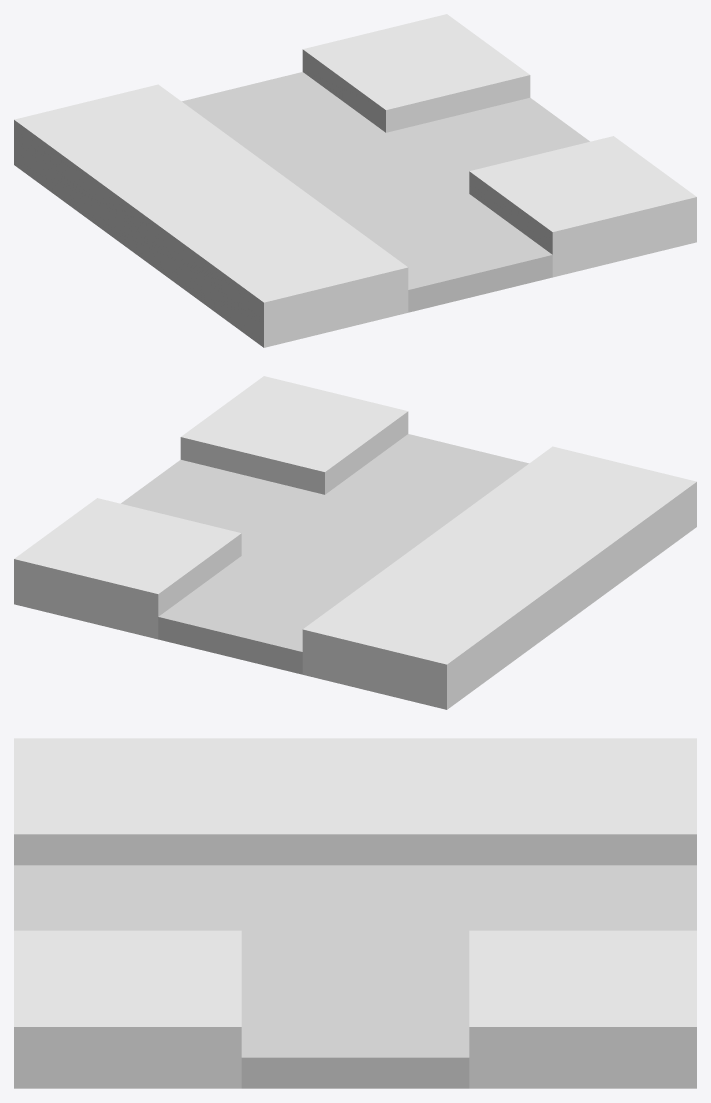
Rendered from ForestRiverCrossing_02.fbx.
3 renders of one model, top to bottom at view 1: azimuth 30°, elevation 25°; view 2: azimuth 150°, elevation 25°; view 3: azimuth 270°, elevation 25°, orthographic. The views are drawn at different scales.
Parts seen in each view (by area): view 1: ForestCrossing_02; view 2: ForestCrossing_02; view 3: ForestCrossing_02.
Boxes of the visible parts, x1=… form: ForestCrossing_02: x1=14, y1=14, x2=696, y2=347; ForestCrossing_02: x1=14, y1=376, x2=696, y2=709; ForestCrossing_02: x1=14, y1=738, x2=696, y2=1088.
Bounding box in the file's own units: 100 × 10 × 100.
